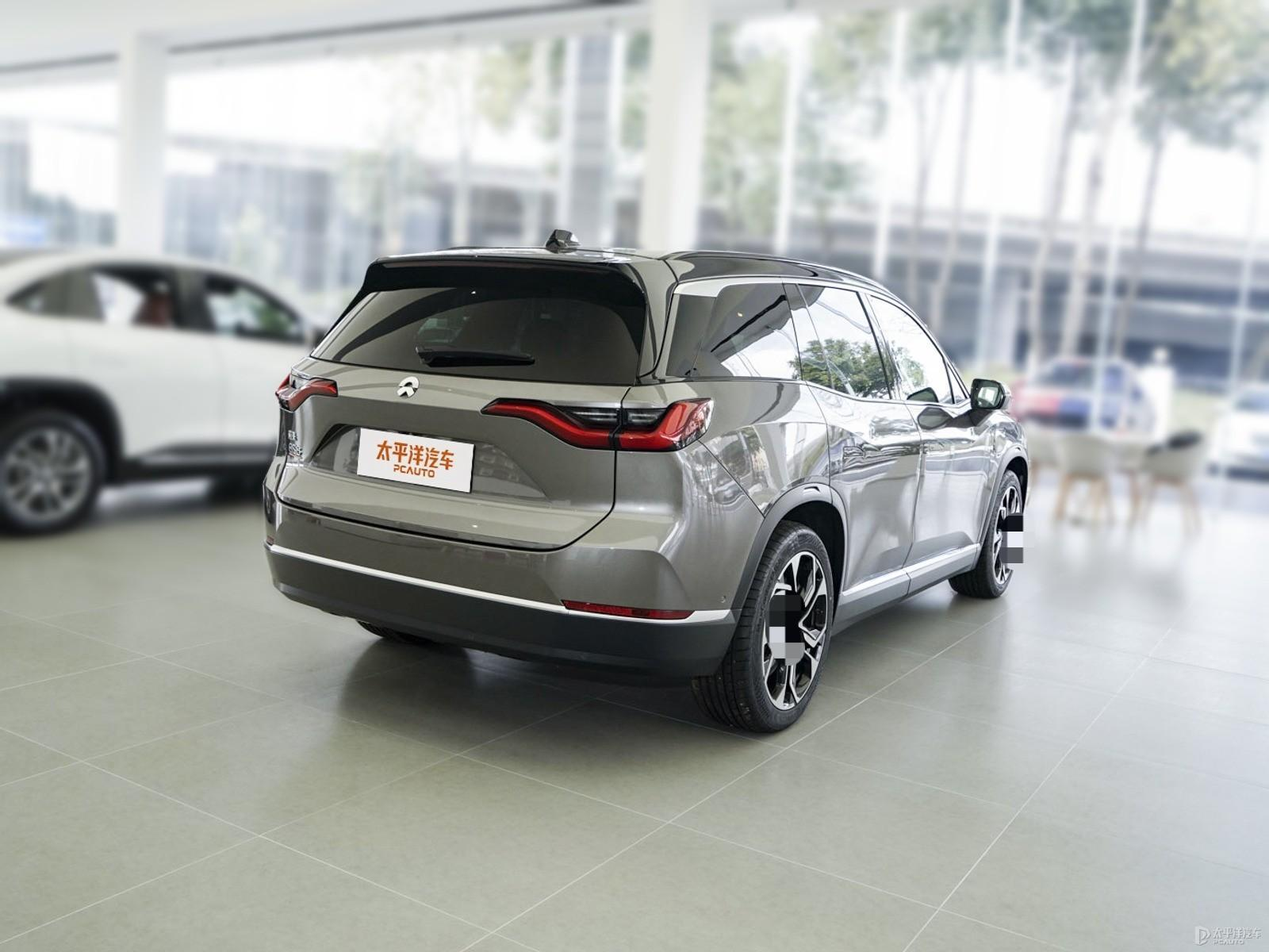NIO: (397, 375, 419, 399)
